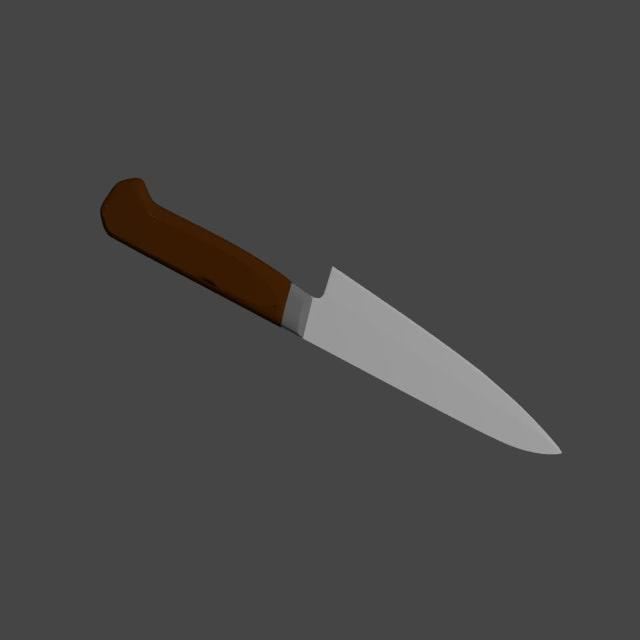knife: (100, 177, 292, 328)
